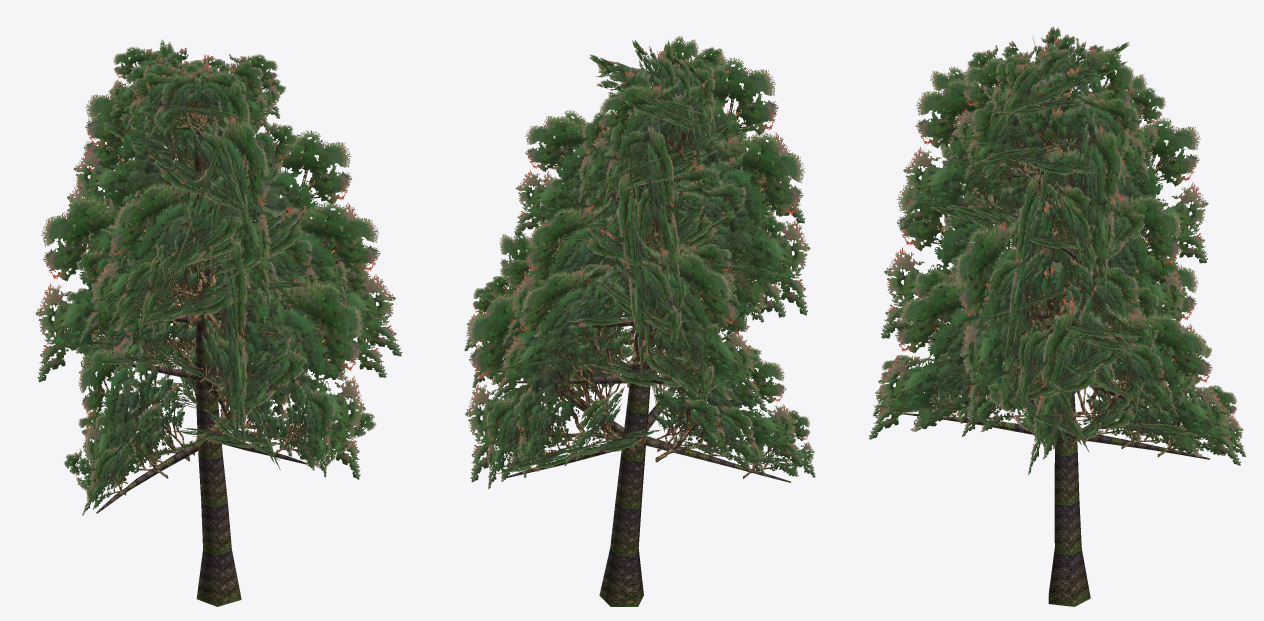
Rendered from far.glb.
The picture shows the model from 3 angles, left to right: view 1: azimuth 30°, elevation 25°; view 2: azimuth 150°, elevation 25°; view 3: azimuth 270°, elevation 25°; orthographic projection. The views are drawn at different scales.
Visible parts, largest first — view 1: lod2, lod1; view 2: lod2, lod1; view 3: lod2, lod1.
Boxes of the visible parts, box(x1,y1,x2,y2) form: lod2: box(35, 39, 402, 606); lod1: box(60, 47, 386, 603); lod2: box(465, 36, 810, 606); lod1: box(464, 40, 815, 605); lod2: box(869, 31, 1240, 606); lod1: box(873, 26, 1245, 606).
Bounding box in the file's own units: 29.38 × 45.44 × 29.81.
Materials: 2 (2 with a texture image).
